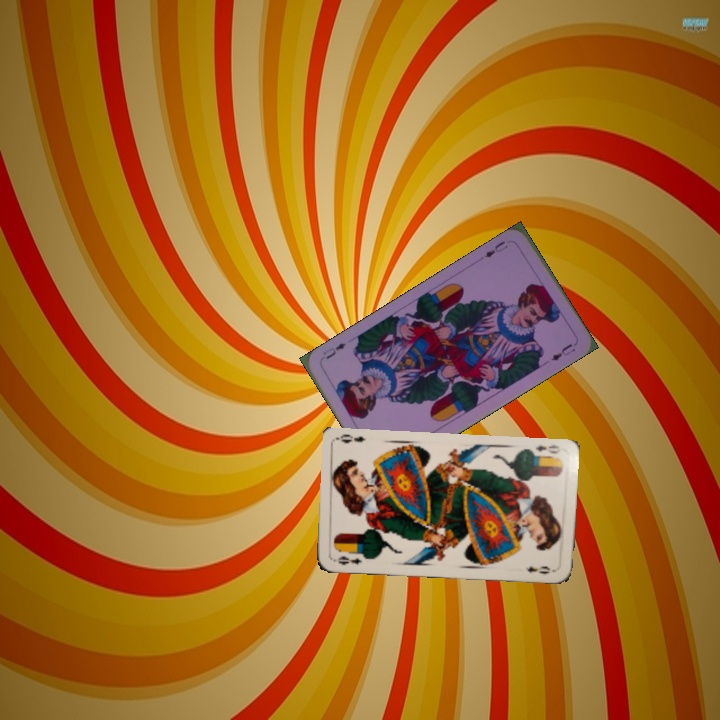EO: (334, 552, 364, 568), (532, 441, 562, 456)
EU: (480, 237, 510, 260)
